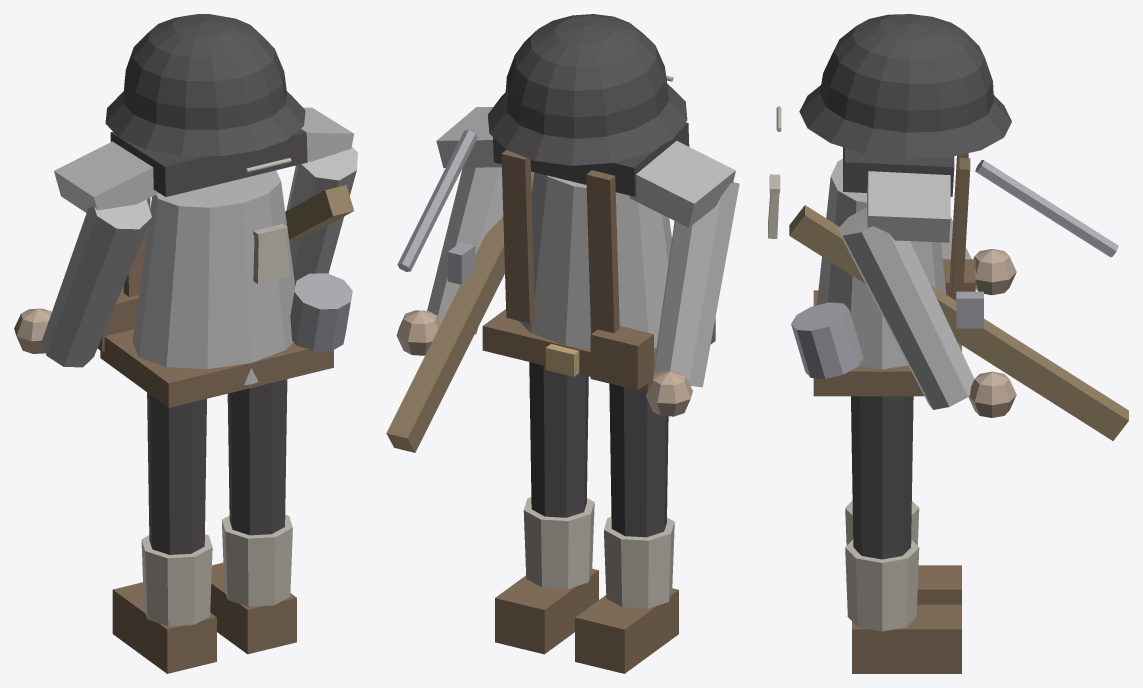
File: unit_soldier.glb
3 renders of one model, left to right at view 1: azimuth 30°, elevation 25°; view 2: azimuth 150°, elevation 25°; view 3: azimuth 270°, elevation 25°, orthographic.
Parts seen in each view (by area): view 1: SD_Coat, SD_HelmetTop, SD_Arm, SD_Leg, SD_Leg.001, SD_Belt, SD_Boot, SD_Collar, SD_Puttee, SD_Puttee.001, SD_ShoulderPad, SD_Arm.001 (+8 smaller); view 2: SD_HelmetTop, SD_Coat, SD_Arm, SD_Leg.001, SD_Rifle, SD_Leg, SD_Boot, SD_Boot.001, SD_ShoulderPad, SD_Puttee.001, SD_Puttee, SD_Strap.001 (+11 smaller); view 3: SD_HelmetTop, SD_Arm.001, SD_Leg.001, SD_Rifle, SD_Coat, SD_Boot.001, SD_ShoulderPad.001, SD_Puttee.001, SD_Canteen, SD_Belt, SD_Collar, SD_RifleBarrel (+8 smaller).
Boxes of the visible parts, x1=… form: SD_Coat: x1=132, y1=170, x2=295, y2=385; SD_HelmetTop: x1=105, y1=14, x2=305, y2=155; SD_Arm: x1=42, y1=199, x2=151, y2=367; SD_Leg: x1=147, y1=392, x2=206, y2=554; SD_Leg.001: x1=227, y1=379, x2=287, y2=535; SD_Belt: x1=100, y1=329, x2=333, y2=407; SD_Boot: x1=112, y1=582, x2=216, y2=673; SD_Collar: x1=110, y1=129, x2=307, y2=196; SD_Puttee: x1=141, y1=534, x2=212, y2=626; SD_Puttee.001: x1=222, y1=514, x2=292, y2=606; SD_ShoulderPad: x1=54, y1=141, x2=158, y2=212; SD_Arm.001: x1=286, y1=147, x2=357, y2=285; SD_HelmetTop: x1=488, y1=14, x2=687, y2=165; SD_Coat: x1=519, y1=172, x2=671, y2=349; SD_Arm: x1=652, y1=182, x2=739, y2=387; SD_Leg.001: x1=529, y1=362, x2=588, y2=517; SD_Rifle: x1=386, y1=171, x2=534, y2=452; SD_Leg: x1=609, y1=383, x2=668, y2=537; SD_Boot: x1=575, y1=588, x2=678, y2=673; SD_Boot.001: x1=495, y1=568, x2=598, y2=654; SD_ShoulderPad: x1=629, y1=141, x2=735, y2=227; SD_Puttee.001: x1=523, y1=497, x2=594, y2=588; SD_Puttee: x1=604, y1=517, x2=674, y2=608; SD_Strap.001: x1=501, y1=150, x2=535, y2=323; SD_HelmetTop: x1=799, y1=14, x2=1011, y2=159; SD_Arm.001: x1=837, y1=207, x2=974, y2=409; SD_Leg.001: x1=851, y1=396, x2=913, y2=559; SD_Rifle: x1=789, y1=205, x2=1128, y2=440; SD_Coat: x1=817, y1=158, x2=946, y2=369; SD_Boot.001: x1=852, y1=604, x2=961, y2=673; SD_ShoulderPad.001: x1=867, y1=171, x2=950, y2=242; SD_Puttee.001: x1=845, y1=539, x2=919, y2=631; SD_Canteen: x1=791, y1=302, x2=863, y2=378; SD_Belt: x1=813, y1=290, x2=923, y2=396; SD_Collar: x1=843, y1=147, x2=954, y2=196; SD_RifleBarrel: x1=975, y1=160, x2=1118, y2=257.
Bounding box in the file's own units: 0.619 × 1.24 × 0.6572.
